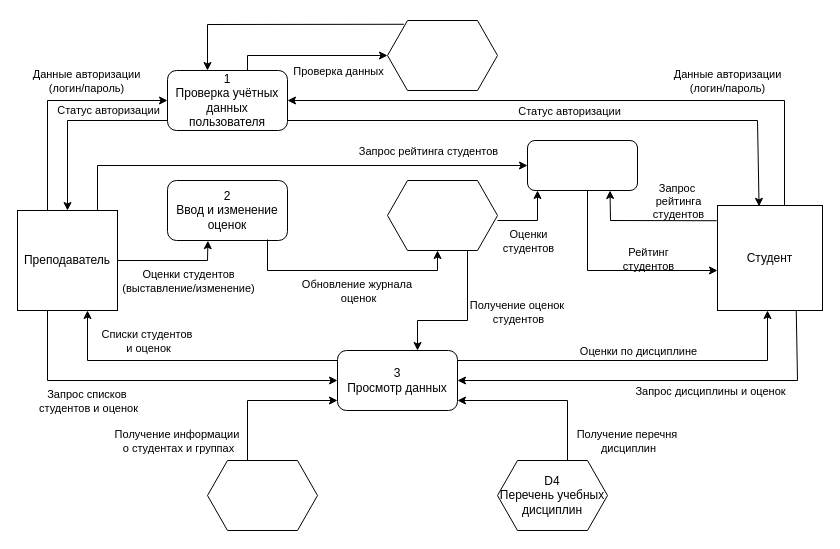
The diagram is 840 pixels wide and 549 high, and some of its shapes have lost their labels. The centre of each missing label's shape, as x and y in pixels:
4 Расчёт рейтинга: the point at 582,165
D2 журнал оценок: the point at 442,215
D3 База студентов и групп: the point at 262,495
